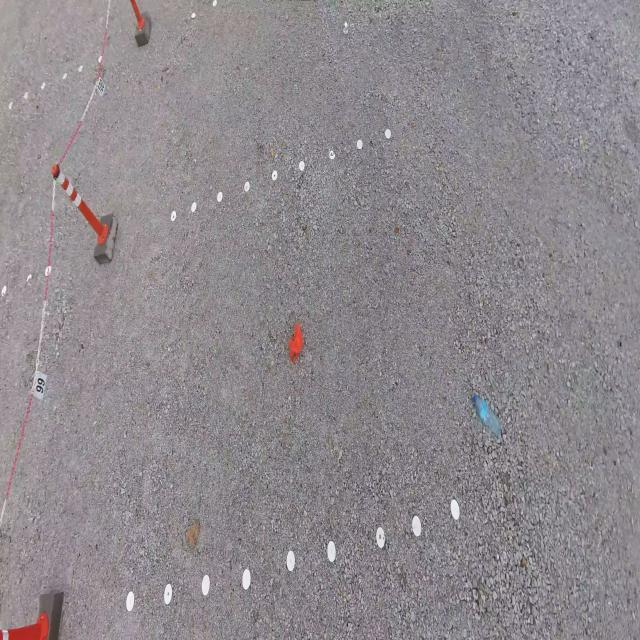rubbish: (472, 393, 503, 439), (287, 320, 304, 364), (187, 520, 200, 552), (342, 22, 348, 34)
